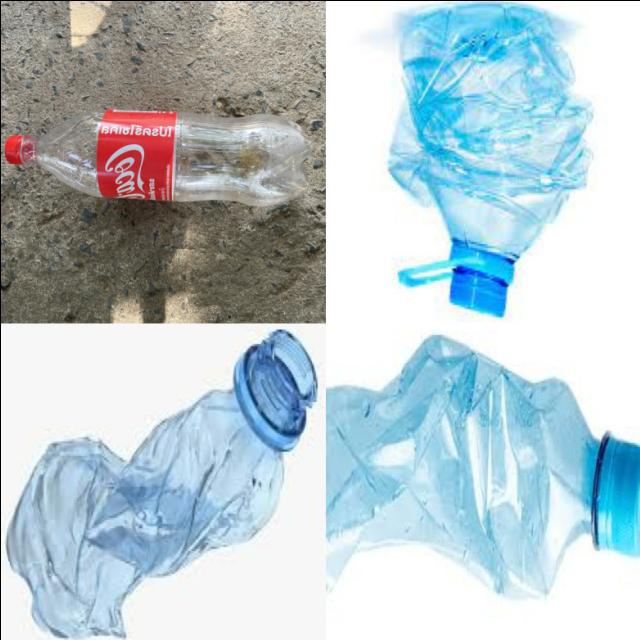plastik: (6, 330, 316, 637), (325, 336, 640, 597), (389, 5, 591, 316), (4, 110, 311, 205)
